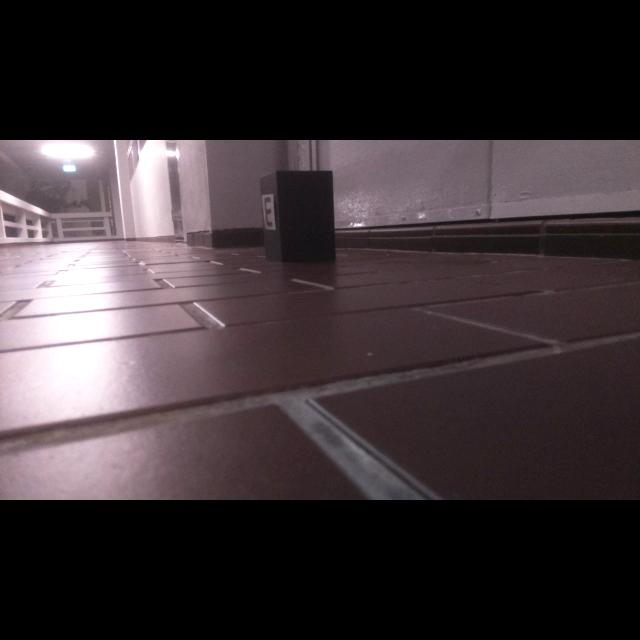E: (264, 197, 273, 227)
